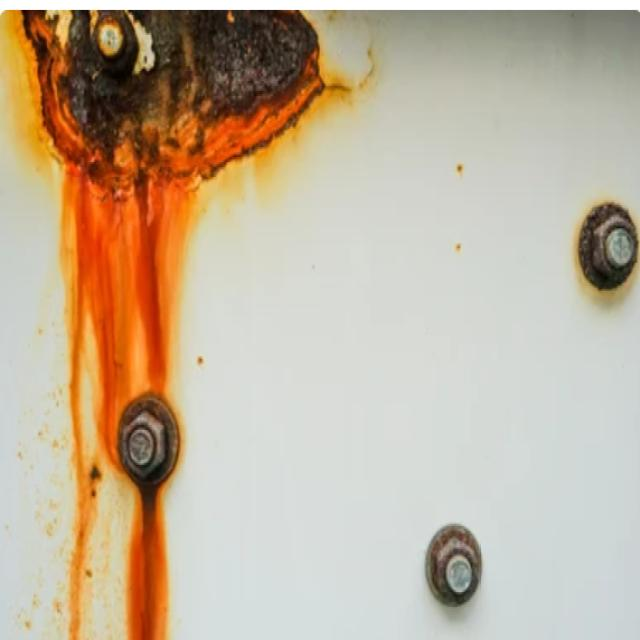corrosion: (3, 6, 333, 634)
